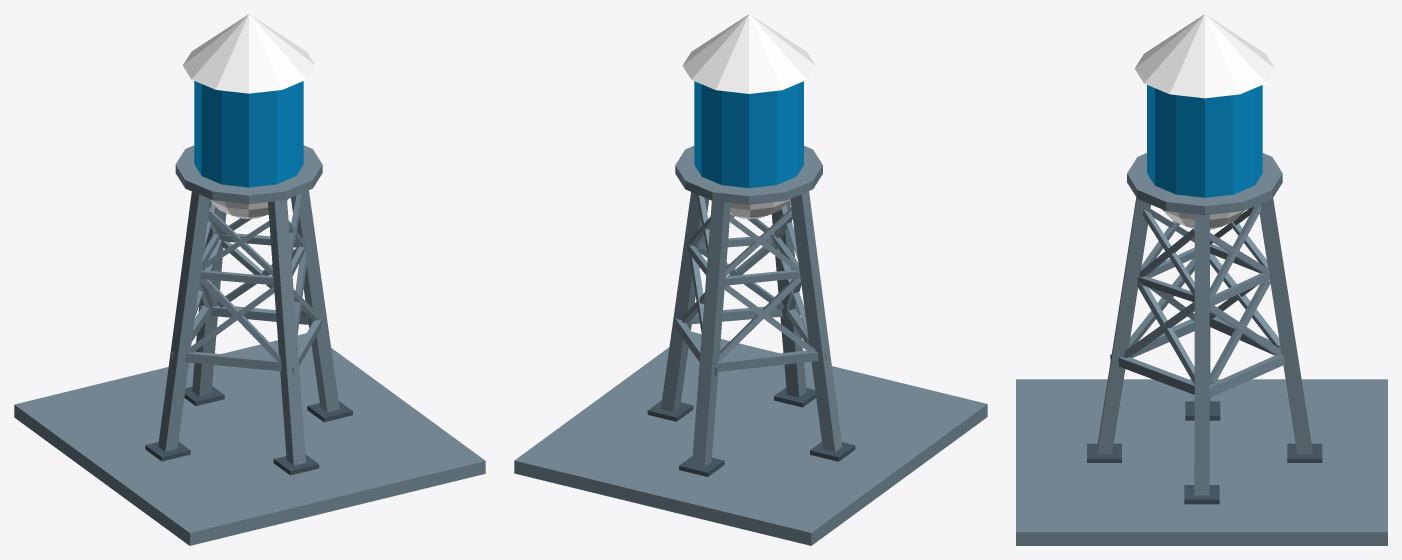
Rendered from Water Tower.glb.
The picture shows the model from 3 angles, left to right: view 1: azimuth 30°, elevation 25°; view 2: azimuth 150°, elevation 25°; view 3: azimuth 270°, elevation 25°; orthographic projection. The views are drawn at different scales.
Visible parts, largest first — view 1: group331475899, group692706810, group413680445, group716373101, group1610138199, group1281034951, group794897842, group2114125086, group1146857087, group1001244296, group840320243, group1370172831 (+3 smaller); view 2: group331475899, group692706810, group413680445, group2114125086, group1610138199, group1281034951, group794897842, group716373101, group144938919, group162758730, group840320243, group2053902198 (+3 smaller); view 3: group331475899, group692706810, group413680445, group1281034951, group2114125086, group716373101, group794897842, group1388263329, group1819461890, group2112371586, group1916266686, group1399579391 (+13 smaller).
Part boxes in pixels (box(x1,y1,x2,y2)): group331475899: box(14, 333, 485, 545); group692706810: box(194, 81, 303, 187); group413680445: box(182, 14, 315, 93); group716373101: box(268, 199, 319, 475); group1610138199: box(145, 191, 210, 461); group1281034951: box(291, 190, 352, 422); group794897842: box(175, 145, 322, 204); group2114125086: box(184, 201, 226, 405); group1146857087: box(172, 351, 281, 371); group1001244296: box(199, 279, 280, 362); group840320243: box(210, 199, 288, 218); group1370172831: box(200, 270, 273, 284); group331475899: box(514, 332, 987, 545); group692706810: box(694, 81, 803, 188); group413680445: box(682, 14, 815, 93); group2114125086: box(679, 200, 730, 476); group1610138199: box(790, 191, 855, 461); group1281034951: box(647, 192, 709, 421); group794897842: box(675, 146, 822, 204); group716373101: box(771, 200, 816, 407); group144938919: box(716, 350, 818, 371); group162758730: box(719, 278, 800, 360); group840320243: box(711, 199, 790, 219); group2053902198: box(724, 285, 815, 352); group331475899: box(1016, 379, 1387, 545); group692706810: box(1147, 85, 1262, 197); group413680445: box(1134, 14, 1274, 98); group1281034951: box(1184, 214, 1219, 504); group2114125086: box(1258, 198, 1322, 462); group716373101: box(1087, 197, 1150, 462); group794897842: box(1127, 153, 1282, 215); group1388263329: box(1207, 353, 1285, 398); group1819461890: box(1110, 354, 1194, 394); group2112371586: box(1209, 280, 1270, 383); group1916266686: box(1137, 281, 1194, 384); group1399579391: box(1209, 204, 1261, 299).
Size of the model in its own units: 0.72 by 1 by 0.74.
